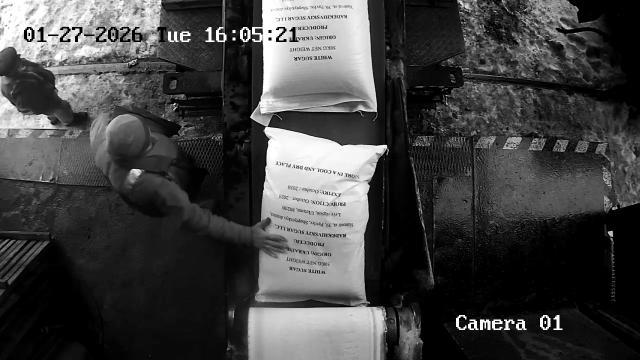bag: (256, 127, 386, 306), (261, 0, 377, 112)
